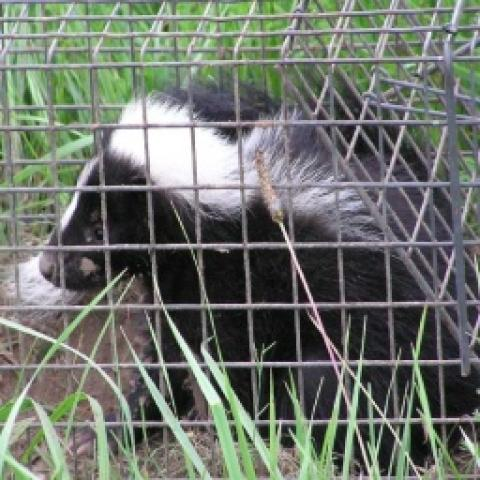small_animal: (37, 84, 480, 479)
